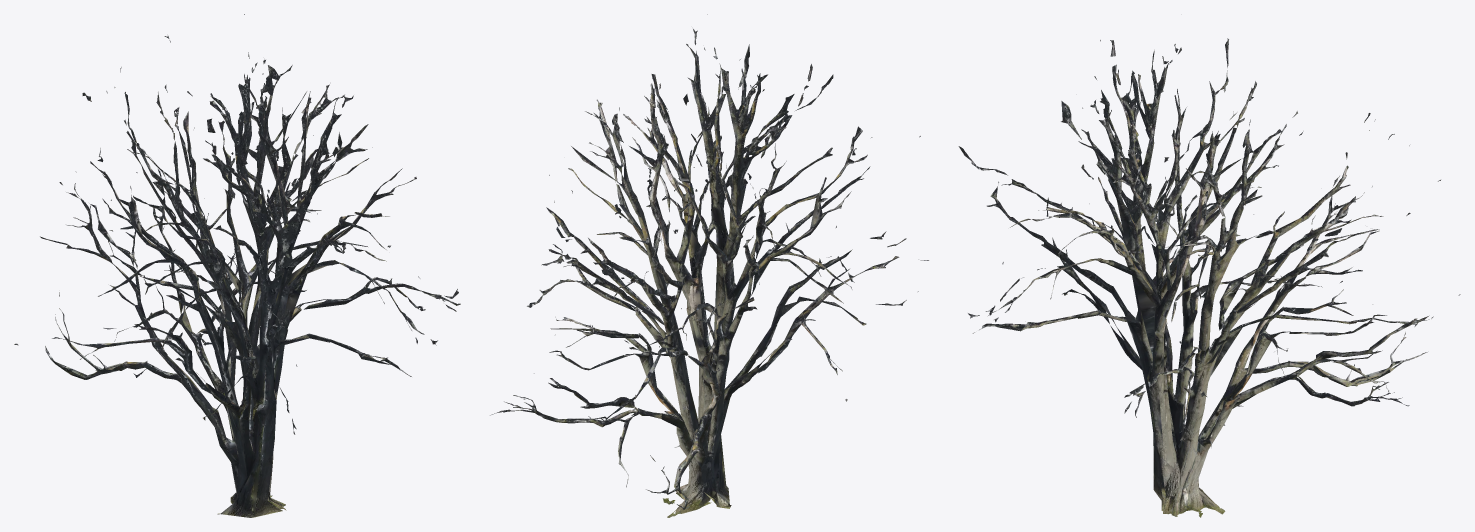
File: fallen_tree.glb
3 renders of one model, left to right at view 1: azimuth 30°, elevation 25°; view 2: azimuth 150°, elevation 25°; view 3: azimuth 270°, elevation 25°, orthographic. The views are drawn at different scales.
Parts seen in each view (by area): view 1: Object_2, Object_3, Object_4; view 2: Object_2, Object_3, Object_4; view 3: Object_3, Object_2, Object_4.
Part boxes in pixels (x1,y1,x2,y2): Object_2: (90, 36, 460, 517); Object_3: (14, 14, 437, 510); Object_4: (45, 52, 416, 497); Object_2: (490, 59, 795, 508); Object_3: (650, 14, 928, 516); Object_4: (614, 74, 696, 517); Object_3: (958, 38, 1379, 516); Object_2: (989, 60, 1460, 510); Object_4: (1069, 85, 1427, 517).
Bounding box in the file's own units: 2.43 × 3.08 × 2.85.
1 material, 1 textured.
